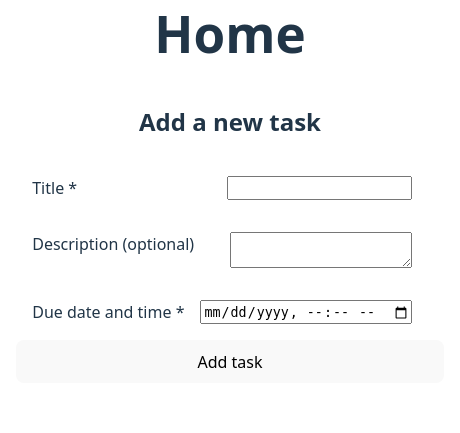
Test: Home page › displays validation errors when form is empty
Click the button "Add task": (230, 362) [16,340,444,383]
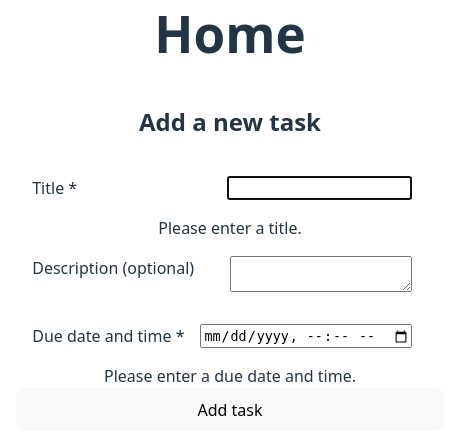
Expected: the text "Please enter a title." is shown, [158,217,302,239]
Expected: the text "Please enter a due date and time." is shown, [104,365,356,387]
